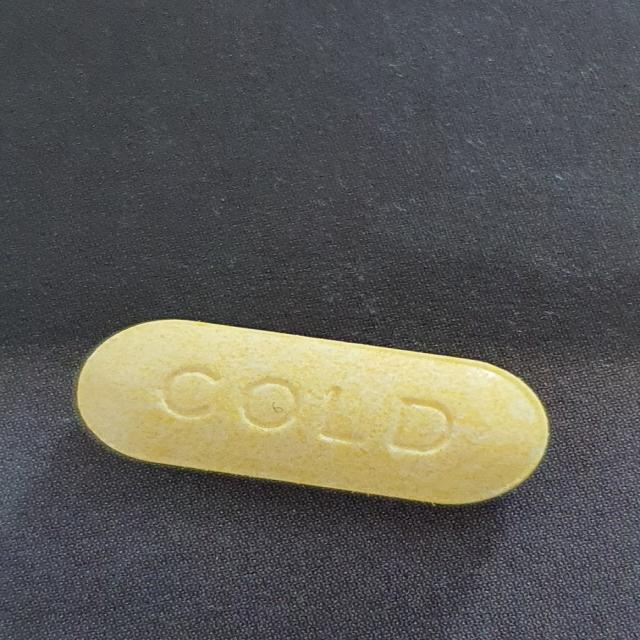pill: (34, 293, 566, 531)
